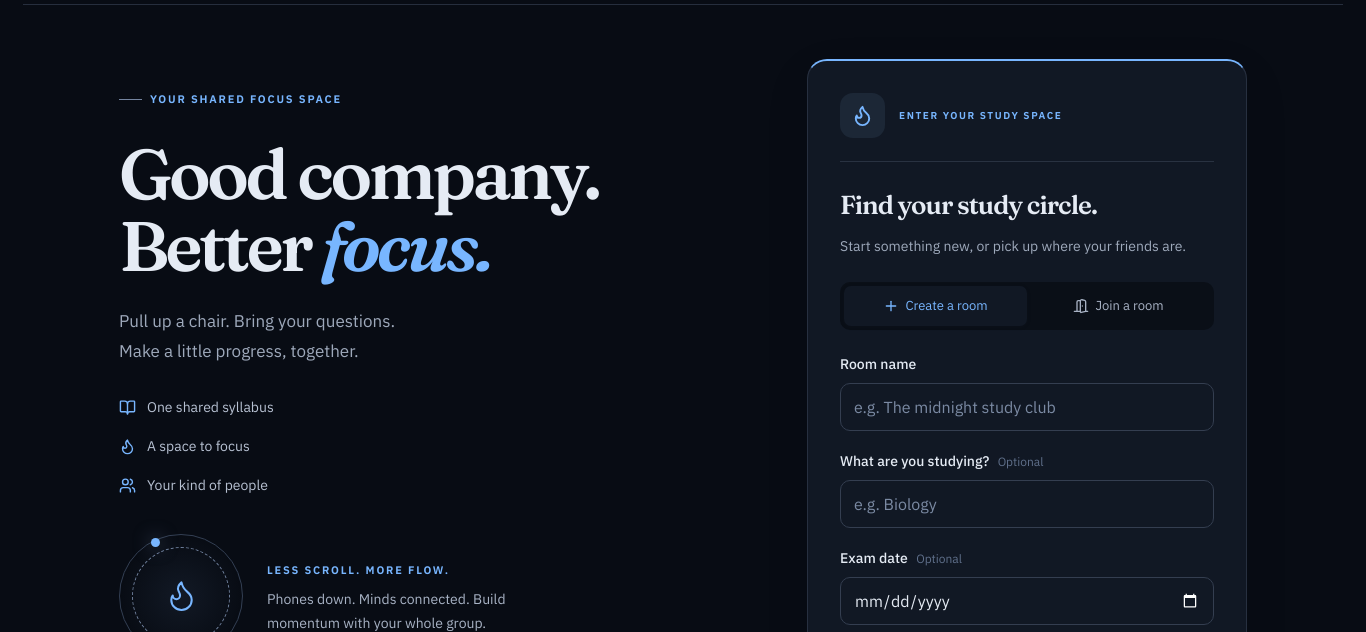
it: Campfire app integration › creates a room from the signed-in form and opens its dashboard
In the field labelled "Room name": [1027, 407] box [840,383,1214,431], type "The biology circle"
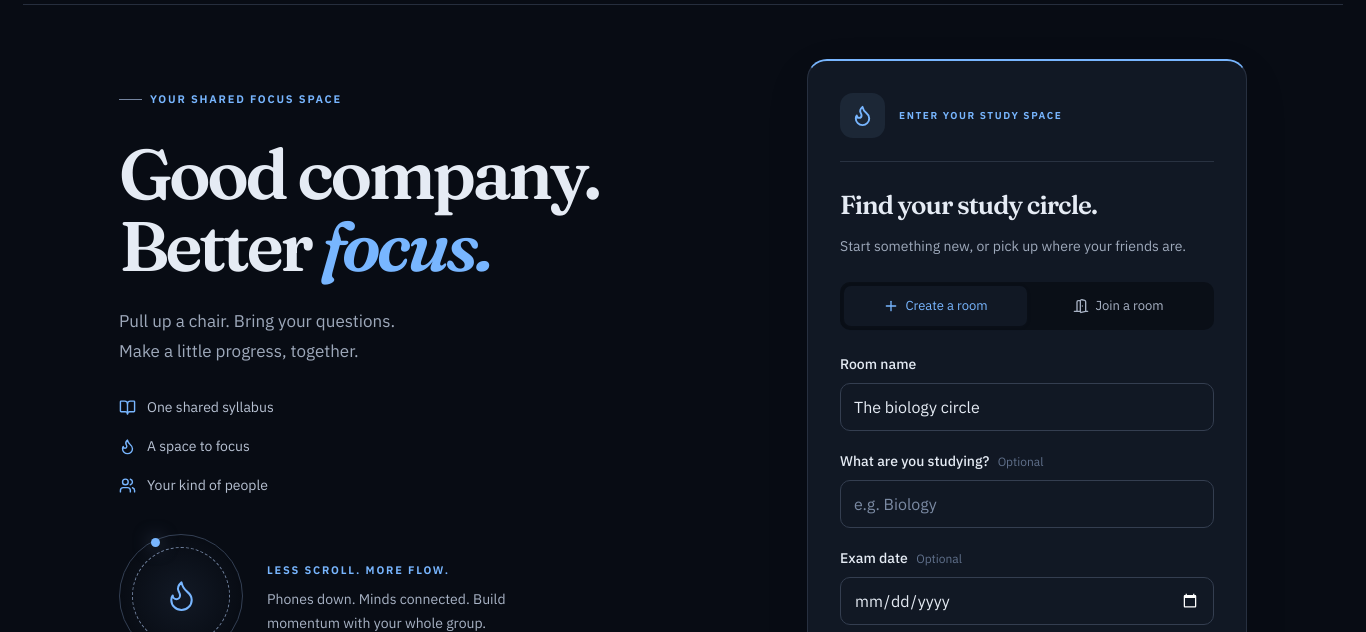
In the field labelled "What are you studying? Optional": [1027, 504] box [840,480,1214,528], type "Biology"
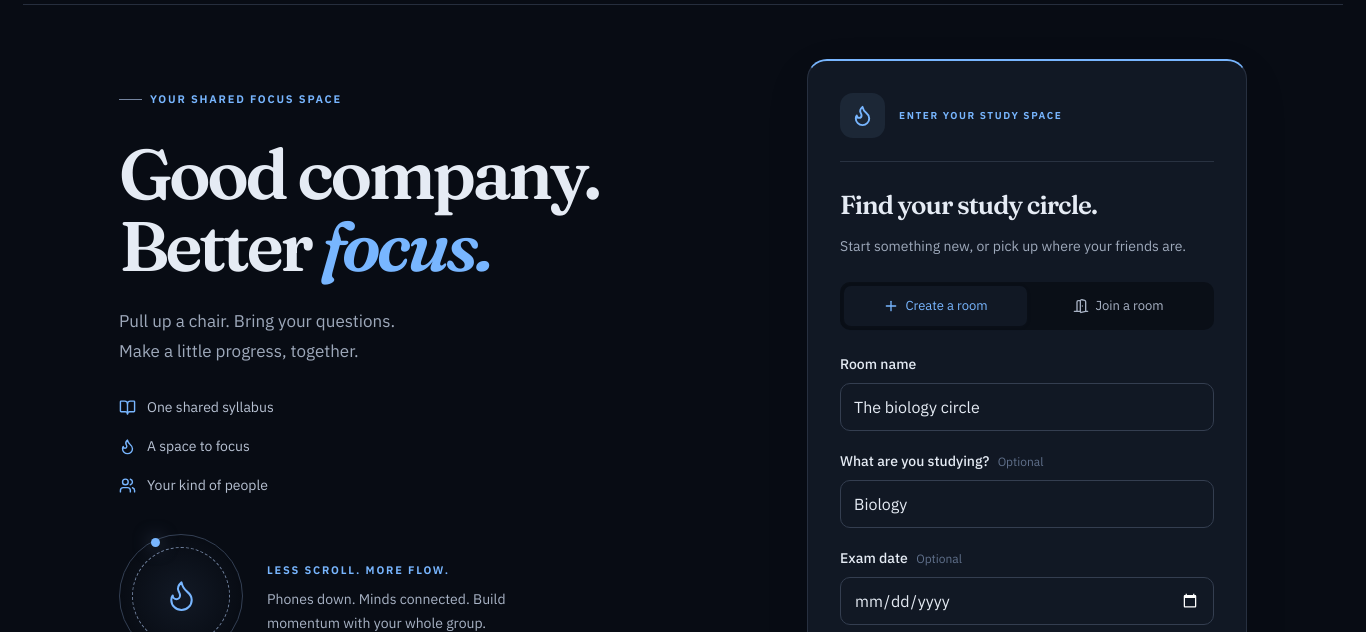
In the date field labelled "Exam date Optional": [1027, 601] box [840,577,1214,625], type "2026-12-01"
(page scrolled)
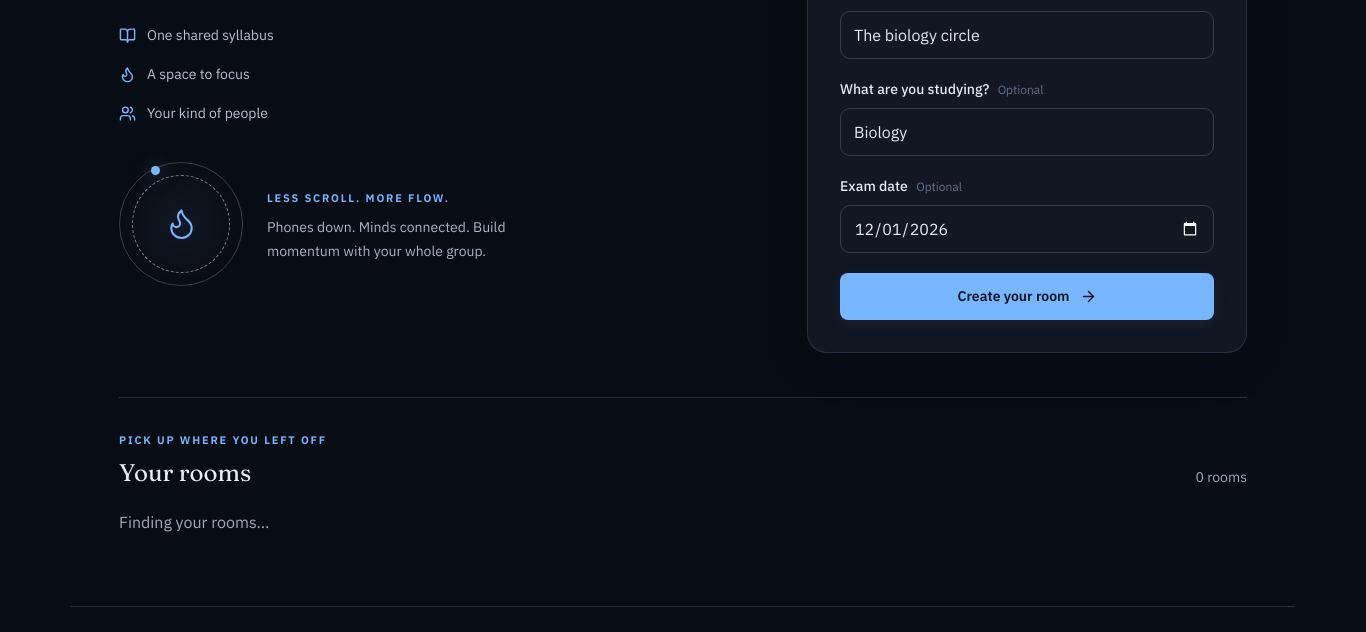
Click the button "Create your room": [1027, 296] box [840,273,1214,320]
(page scrolled)
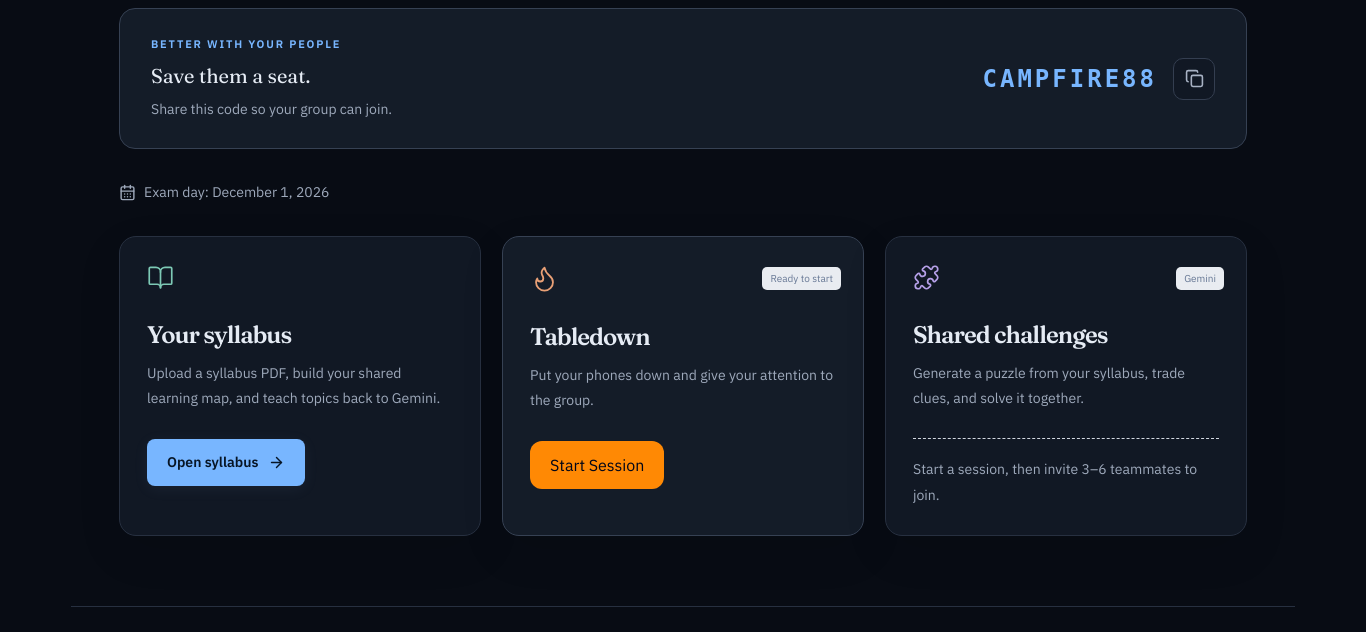
Result: the text "CAMPFIRE88" is shown at [982,60,1157,96]
